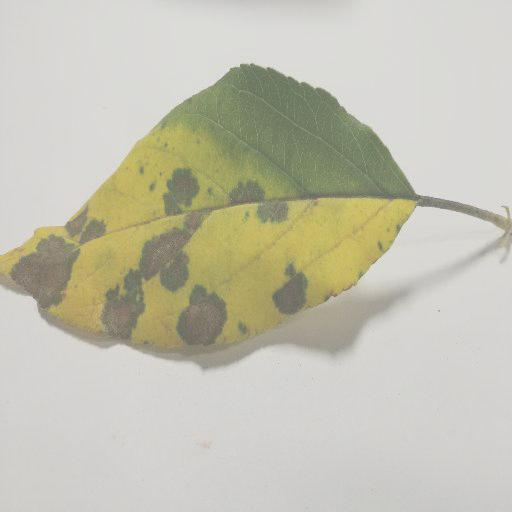Brown_Spot: (9, 199, 102, 308), (130, 234, 205, 295), (89, 280, 152, 348), (164, 285, 229, 347), (151, 167, 200, 214)
